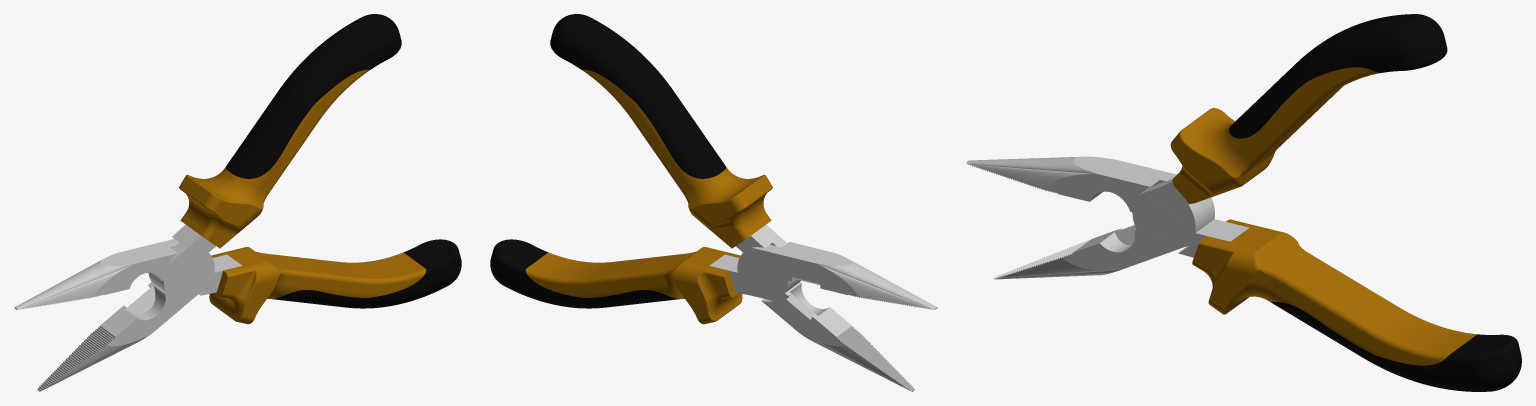
File: Long Nose Pliers open 30 degrees.obj
The picture shows the model from 3 angles, left to right: view 1: azimuth 30°, elevation 25°; view 2: azimuth 150°, elevation 25°; view 3: azimuth 330°, elevation 25°; orthographic projection. The views are drawn at different scales.
Visible parts, largest first — view 1: Long_Nose_Pliers_open_30_degrees; view 2: Long_Nose_Pliers_open_30_degrees; view 3: Long_Nose_Pliers_open_30_degrees.
Part boxes in pixels (<box>): Long_Nose_Pliers_open_30_degrees: <box>14,14,461,391</box>; Long_Nose_Pliers_open_30_degrees: <box>490,14,937,391</box>; Long_Nose_Pliers_open_30_degrees: <box>966,14,1521,391</box>.
Bounding box in the file's own units: 156 × 98.76 × 20.
